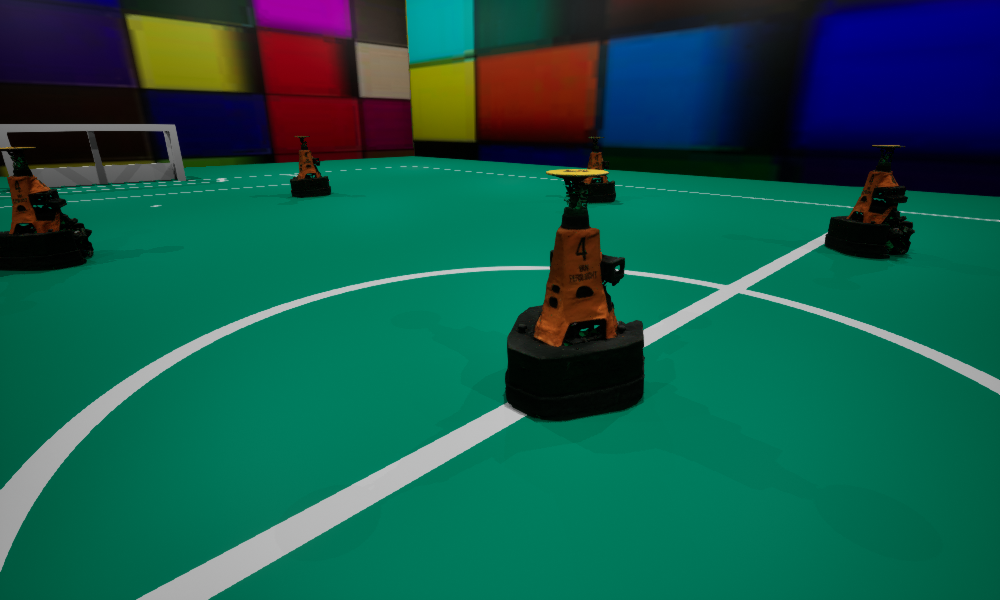0 orange robot TechUnited: (505, 169, 644, 420), (0, 147, 93, 270), (825, 145, 914, 258), (575, 137, 615, 202), (290, 136, 330, 197)
